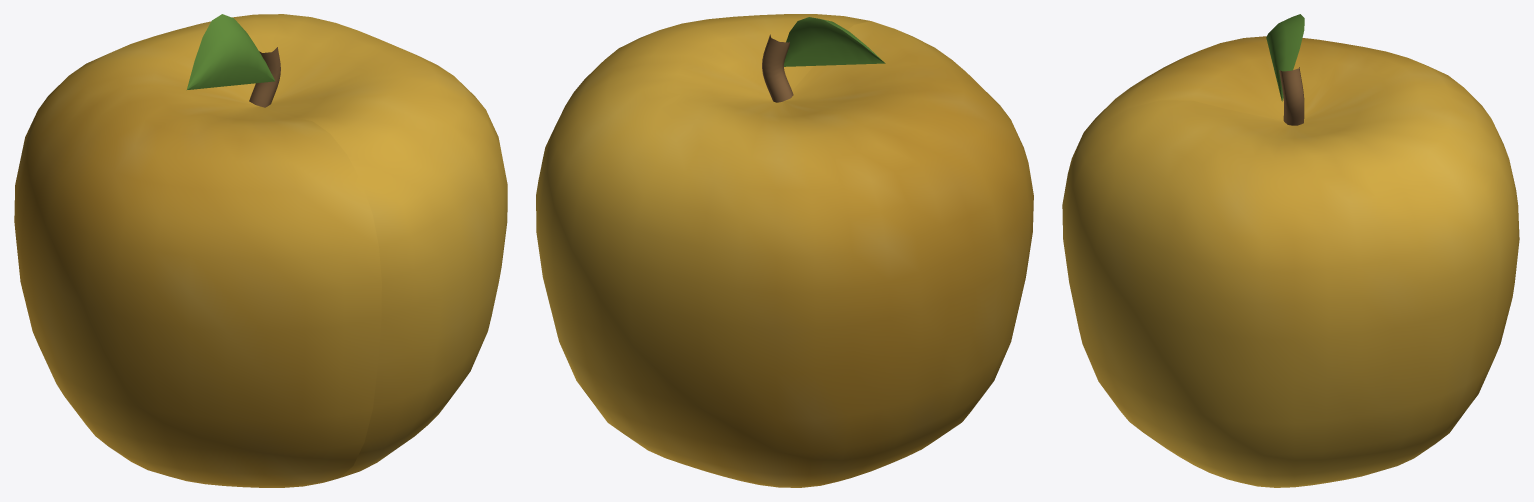
Rendered from yellowapple.glb.
3 views of the same model, side by side, from view 1: azimuth 30°, elevation 25°; view 2: azimuth 150°, elevation 25°; view 3: azimuth 270°, elevation 25° (orthographic). The views are drawn at different scales.
Parts seen in each view (by area): view 1: yellowapple; view 2: yellowapple; view 3: yellowapple.
Boxes of the visible parts, left/top/right/bottom form: yellowapple: left=14, top=14, right=507, bottom=487; yellowapple: left=536, top=14, right=1033, bottom=487; yellowapple: left=1062, top=14, right=1519, bottom=487.
Bounding box in the file's own units: 0.8791 × 0.8496 × 0.855.
